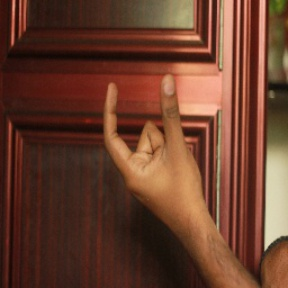U: (99, 70, 199, 204)
